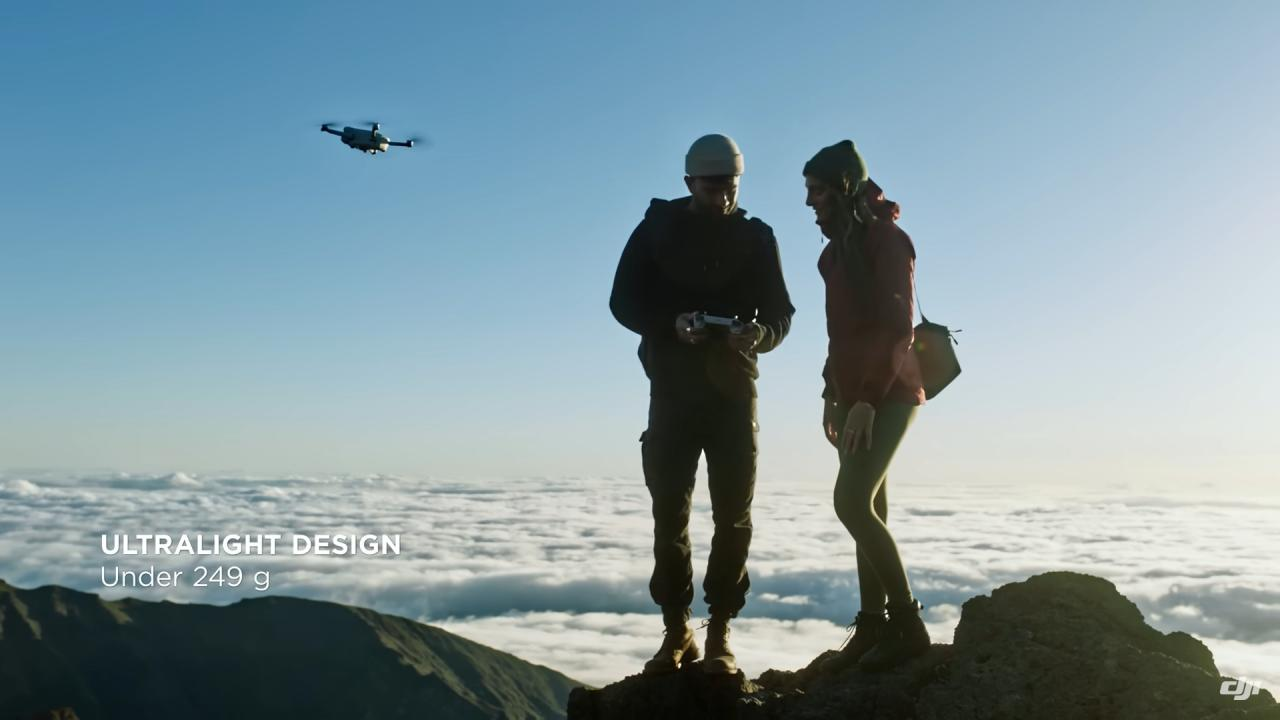Drone: (308, 110, 434, 162)
